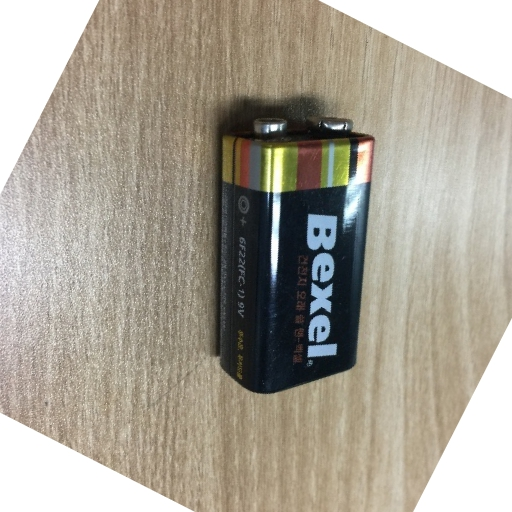Battery_3: (195, 94, 385, 402)
